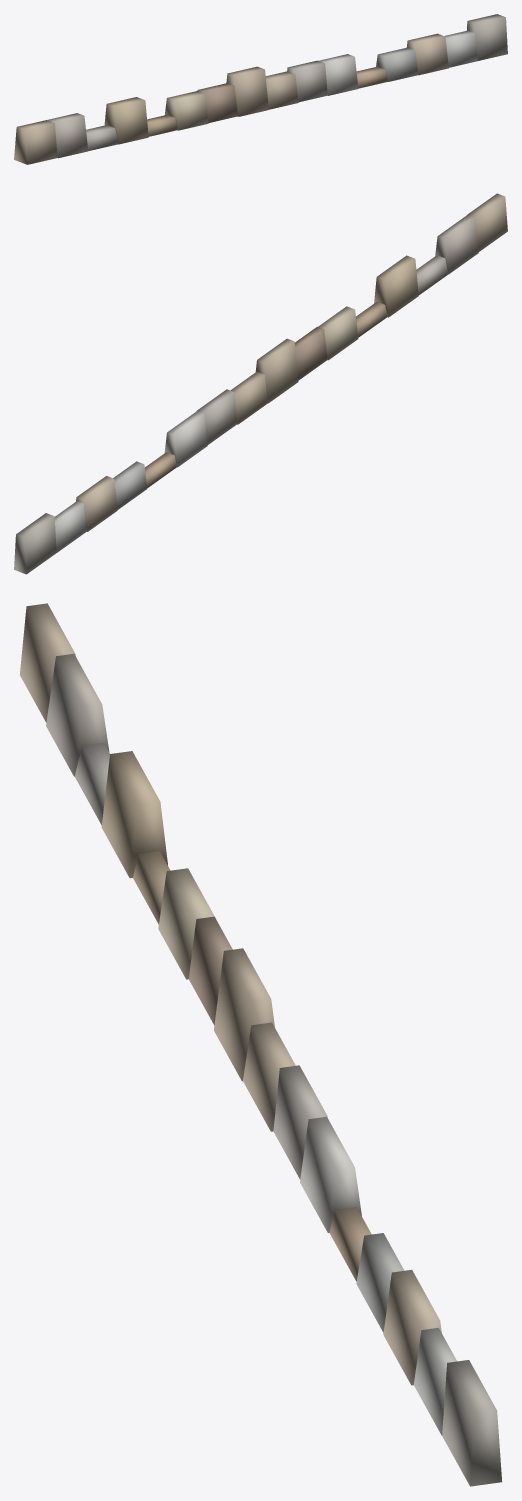
Rendered from farm_-30_-25_collision.glb.
3 renders of one model, top to bottom at view 1: azimuth 30°, elevation 25°; view 2: azimuth 210°, elevation 25°; view 3: azimuth 270°, elevation 25°, orthographic. The views are drawn at different scales.
Visible parts, largest first — view 1: geometry_0; view 2: geometry_0; view 3: geometry_0.
Boxes of the visible parts, x1,y1,x2,y2 form: geometry_0: [14, 14, 507, 164]; geometry_0: [14, 193, 507, 574]; geometry_0: [20, 603, 502, 1486].
Size of the model in its own units: 24.49 by 5.88 by 8.55.
